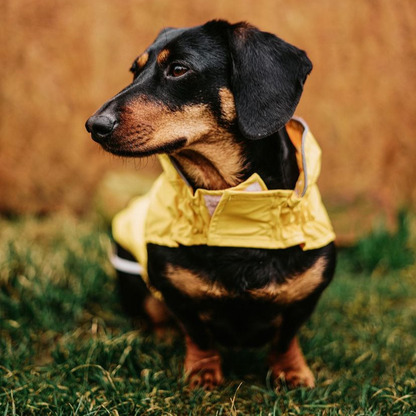dachshund: (95, 18, 349, 372)
